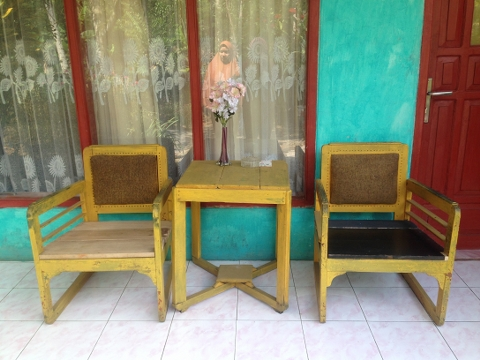kursi: (313, 143, 460, 327), (25, 145, 171, 323)
meja: (172, 160, 293, 314)
